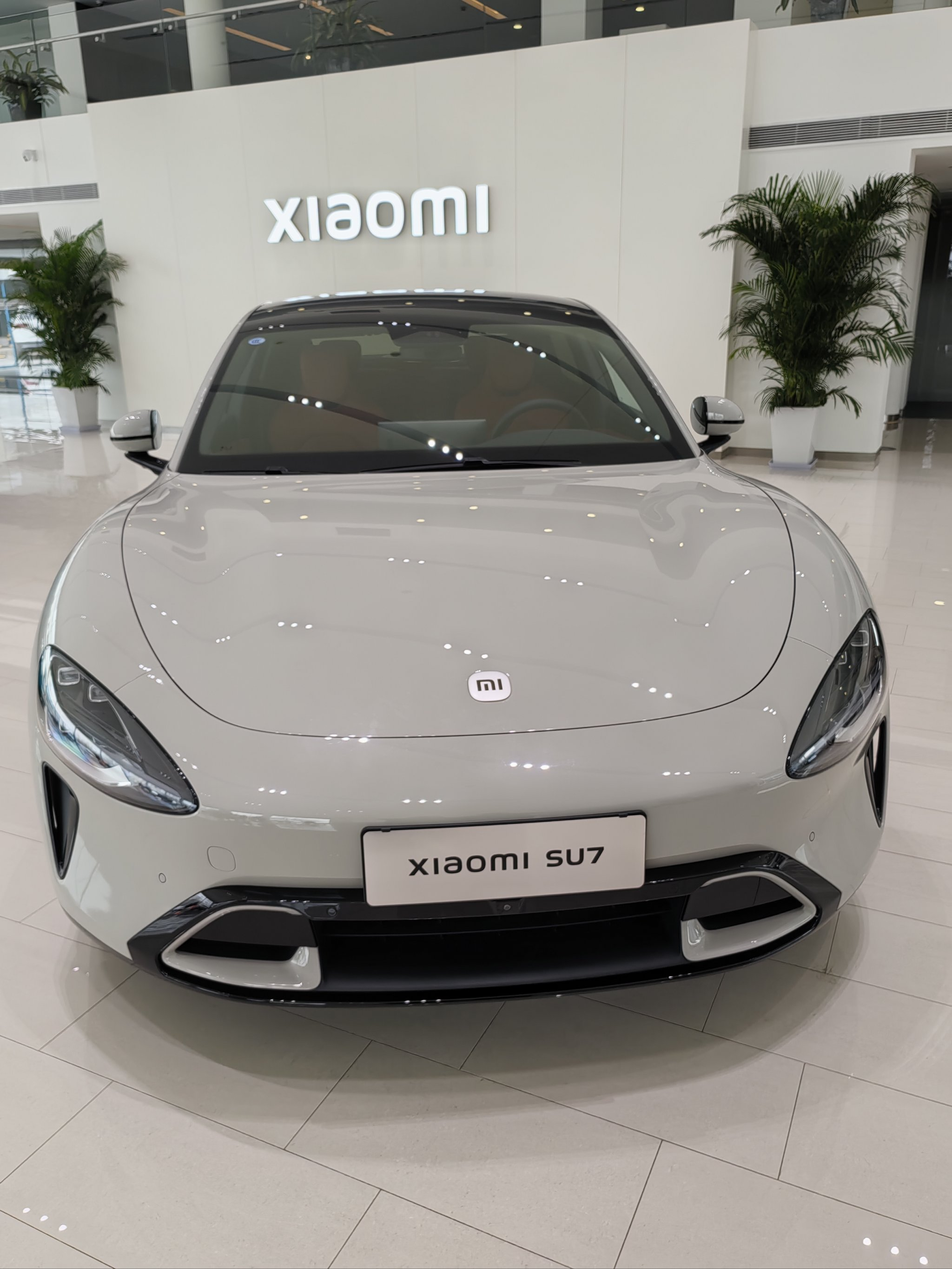su7: (33, 275, 898, 1007)
